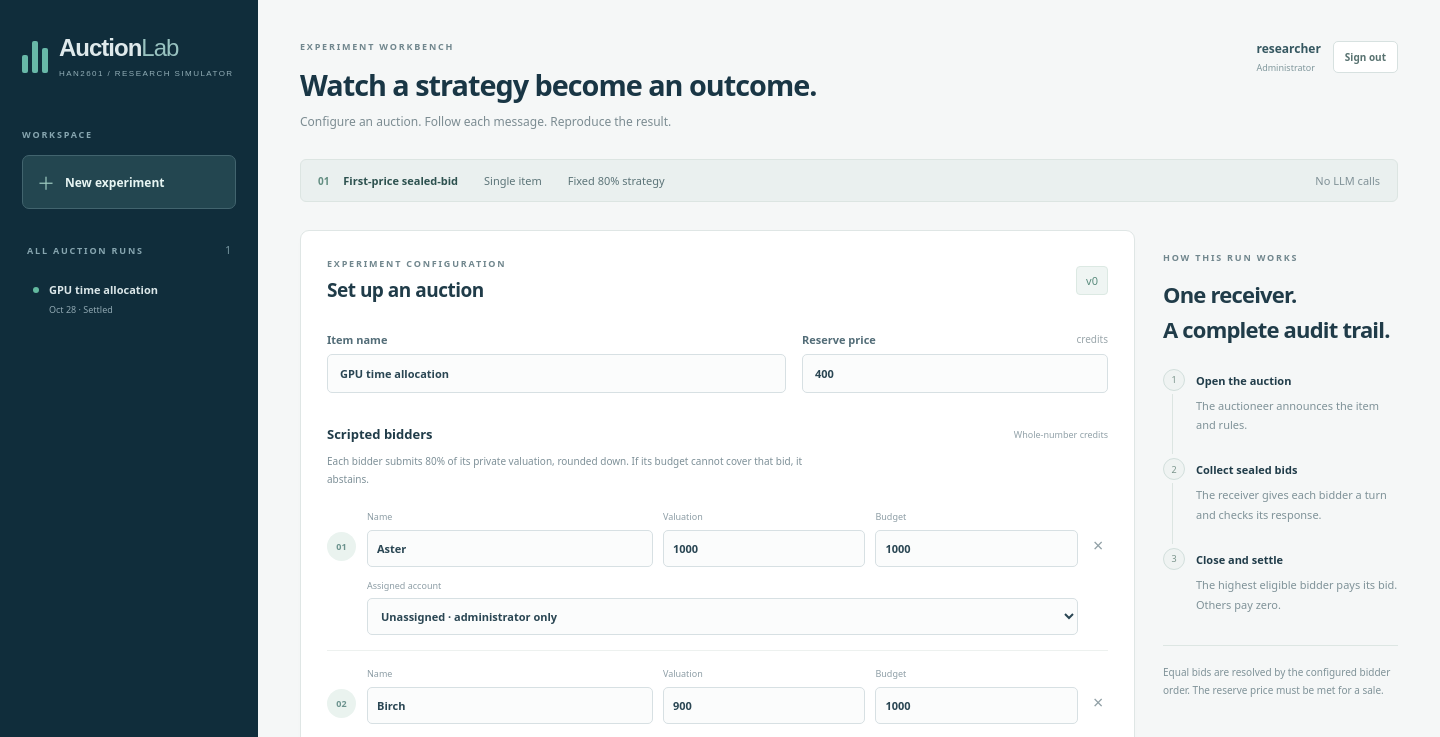
Scenario: account sessions › clears cached auction data on logout and sends a CSRF-protected request
The width and height of the screenshot is (1440, 737).
Step 1. Click the button "GPU time allocation Oct 28 · Settled" → click(129, 299), box x1=22 y1=270 x2=236 y2=328
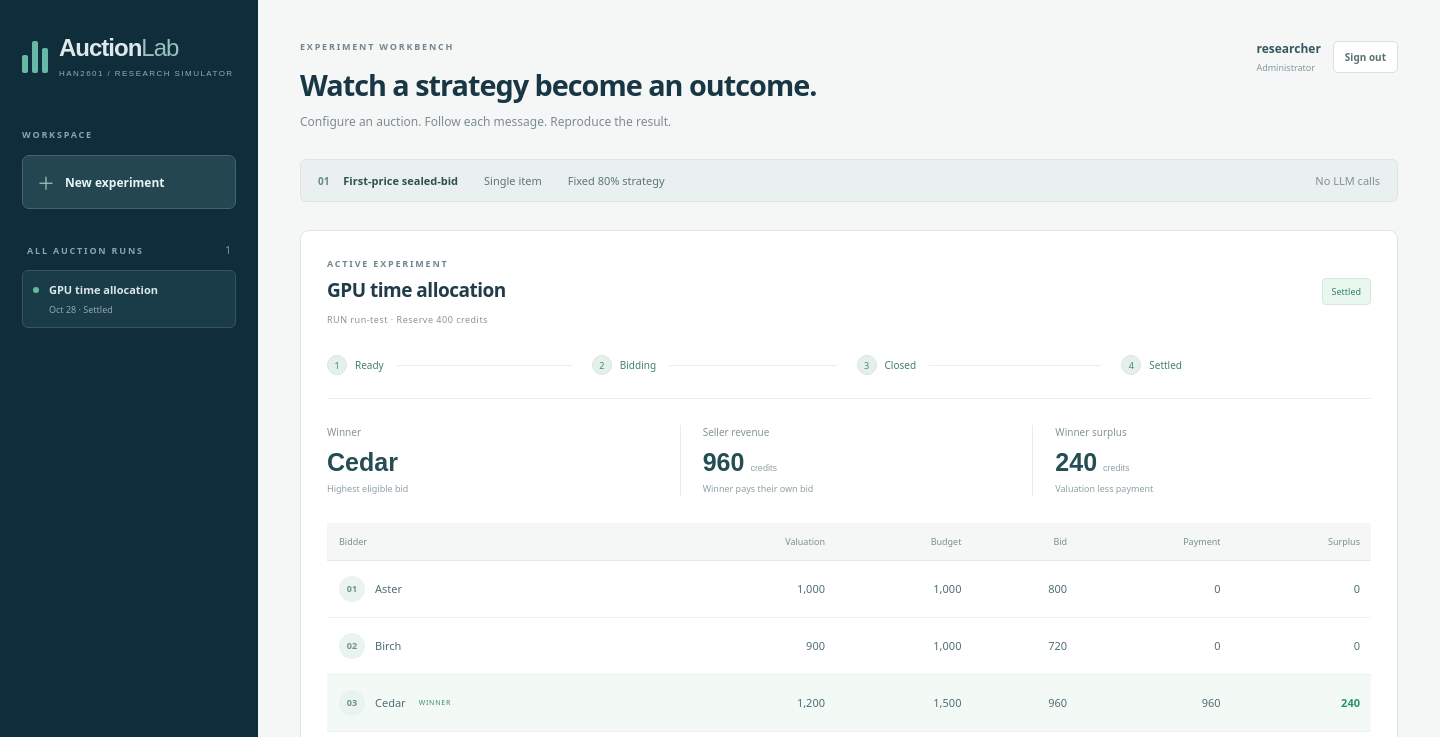
Expected: the text "WINNER" is shown, x1=419 y1=698 x2=451 y2=707
Step 2. Click the button "Sign out" → click(1365, 57), box x1=1333 y1=41 x2=1398 y2=73
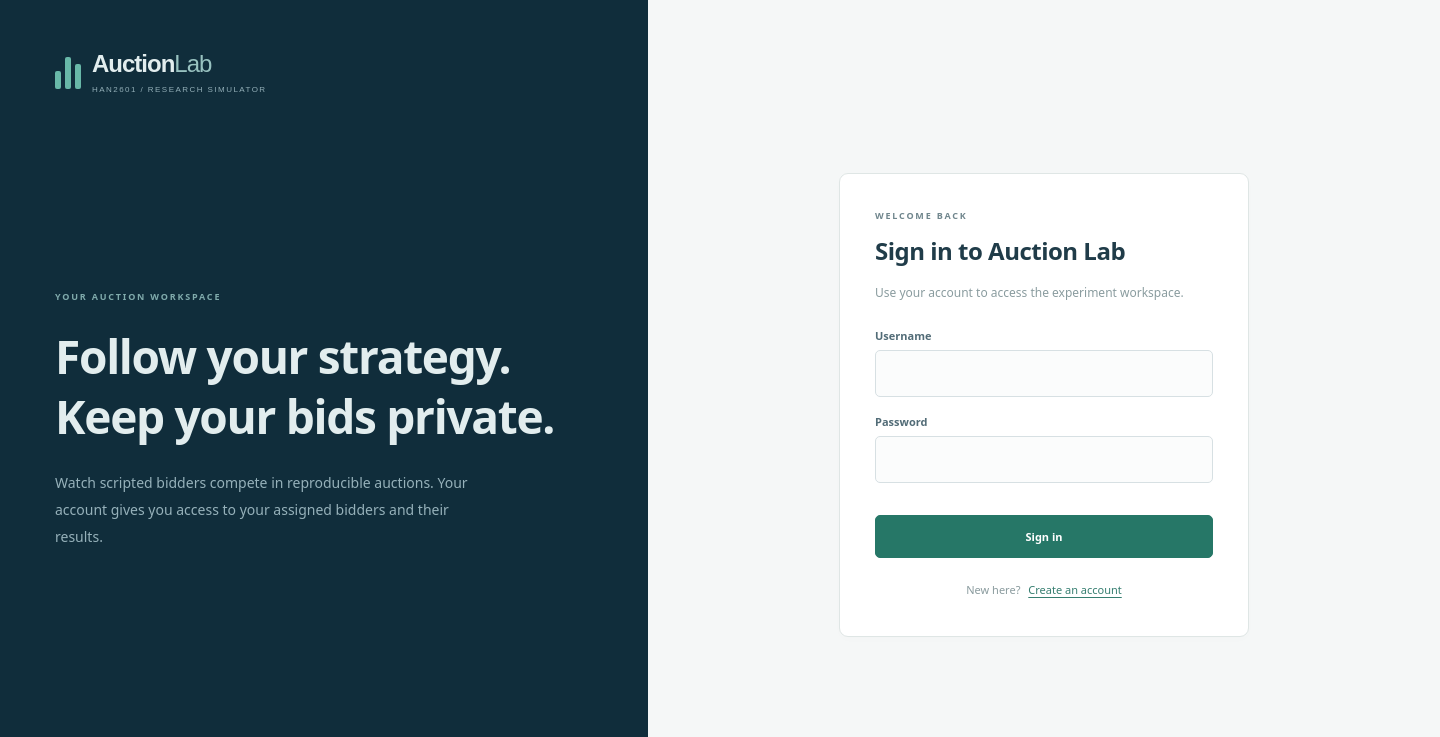
Expected: the button "Sign in" is shown, x1=875 y1=515 x2=1213 y2=558
Expected: the button "GPU time allocation" is gone
